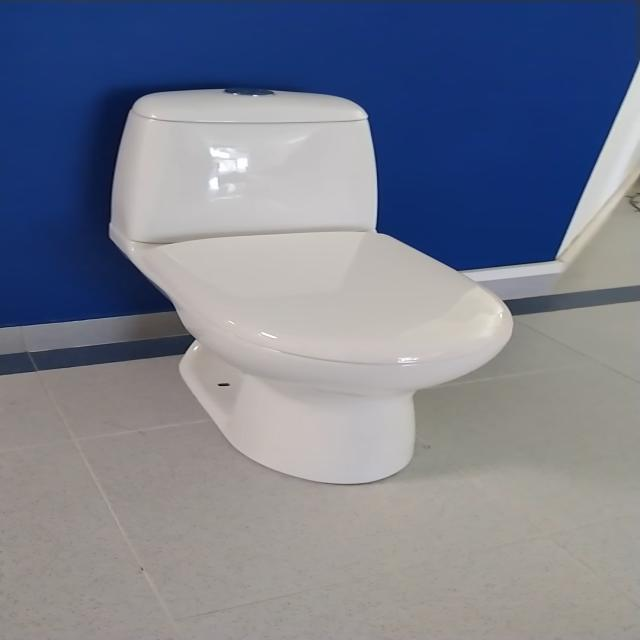toilet: (107, 86, 514, 485)
